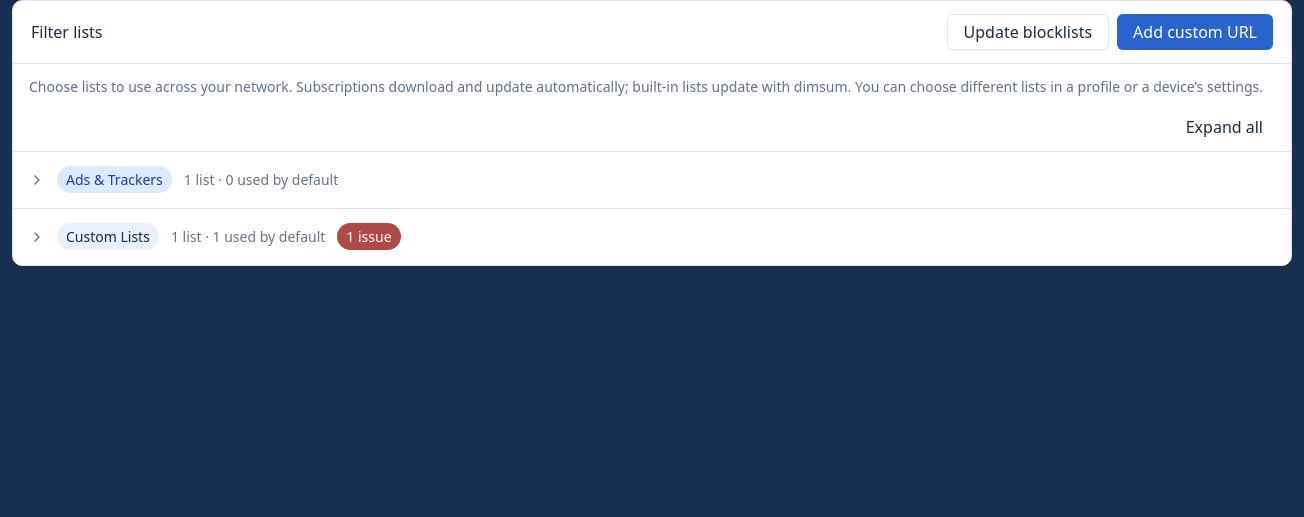
Scenario: keeps a retained source visibly active when its update fails
Click the button "Expand all": (1224,127) [1174,111,1275,143]
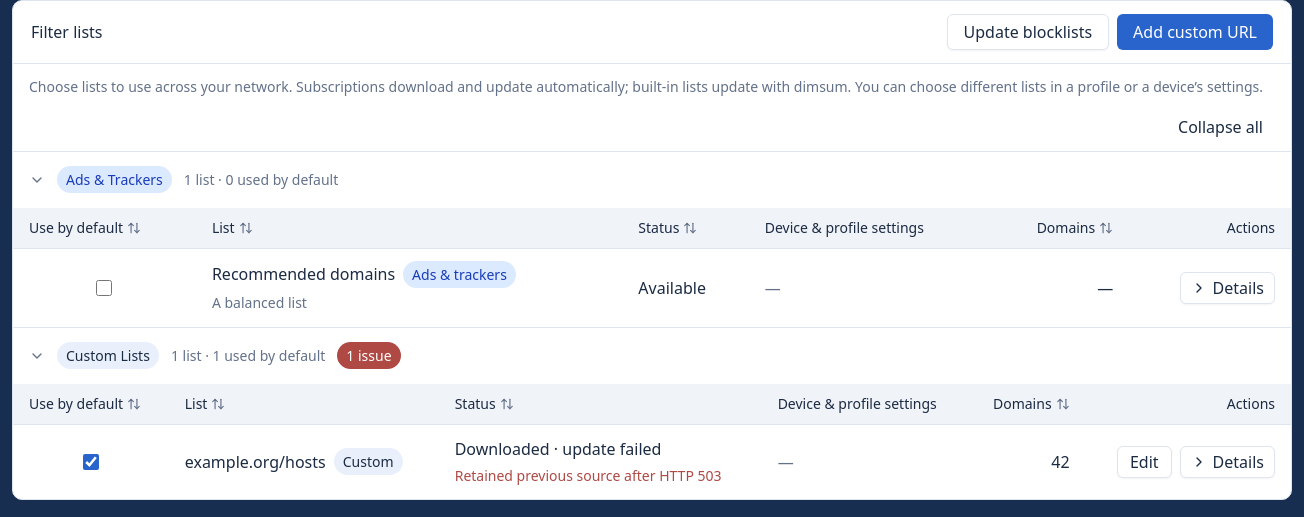
Expected: the checkbox named "example.org/hosts" is checked, [83,454,99,470]
Expected: the text "Downloaded · update failed" is shown, [455,438,661,460]
Expected: the text "Retained previous source after HTTP 503" is shown, [455,464,743,487]
